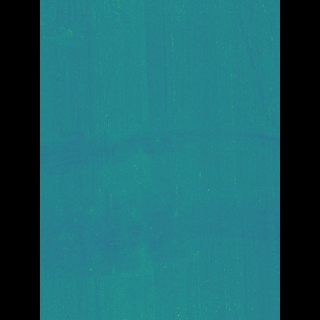Loch: (71, 120, 249, 282)
